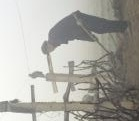person: (40, 9, 132, 55)
